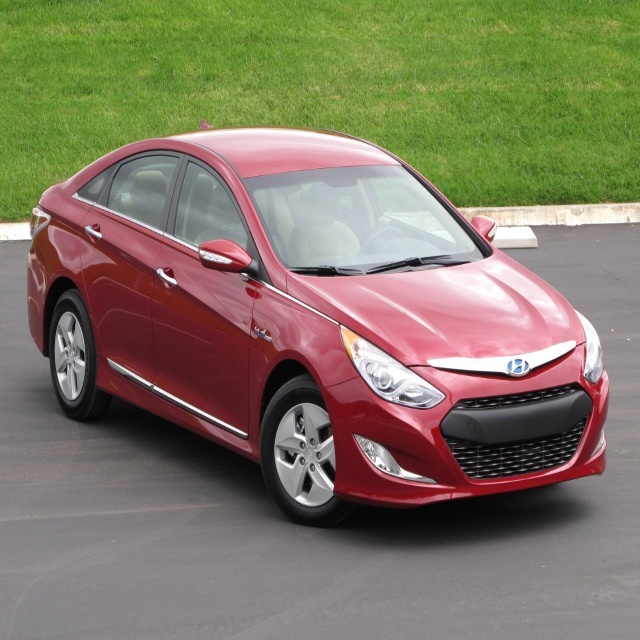Car: (25, 125, 609, 529)
